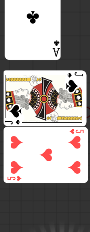4H: (7, 174, 23, 181)
5C: (6, 118, 22, 126)
AC: (52, 38, 61, 58)
